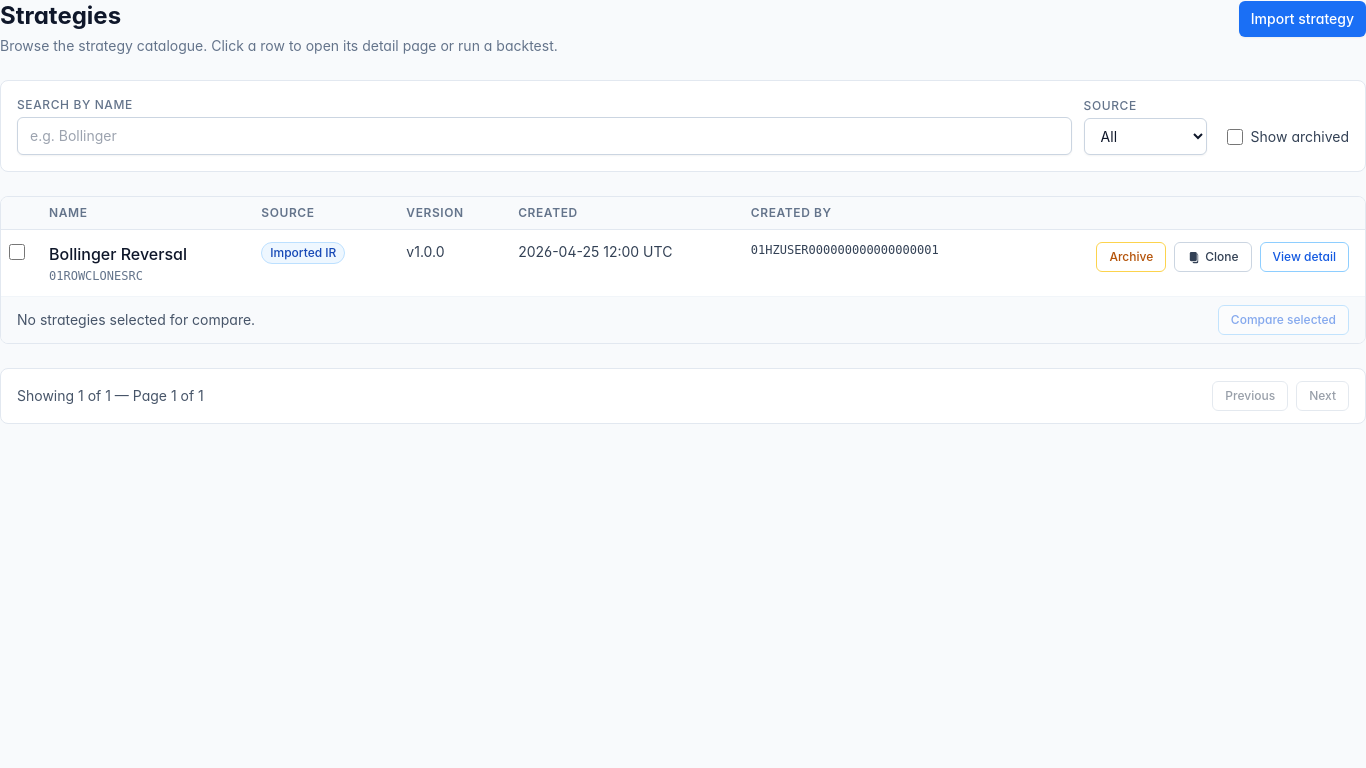
Test case: Strategies browse page › renders a Clone button on each row that opens the clone modal pre-filled with '{name} (copy)'
The image size is (1366, 768).
Expected: the table with test id "strategies-table" is shown, x1=1 y1=197 x2=1365 y2=296
Click the button "Clone": (1213, 257) x1=1174 y1=242 x2=1252 y2=272
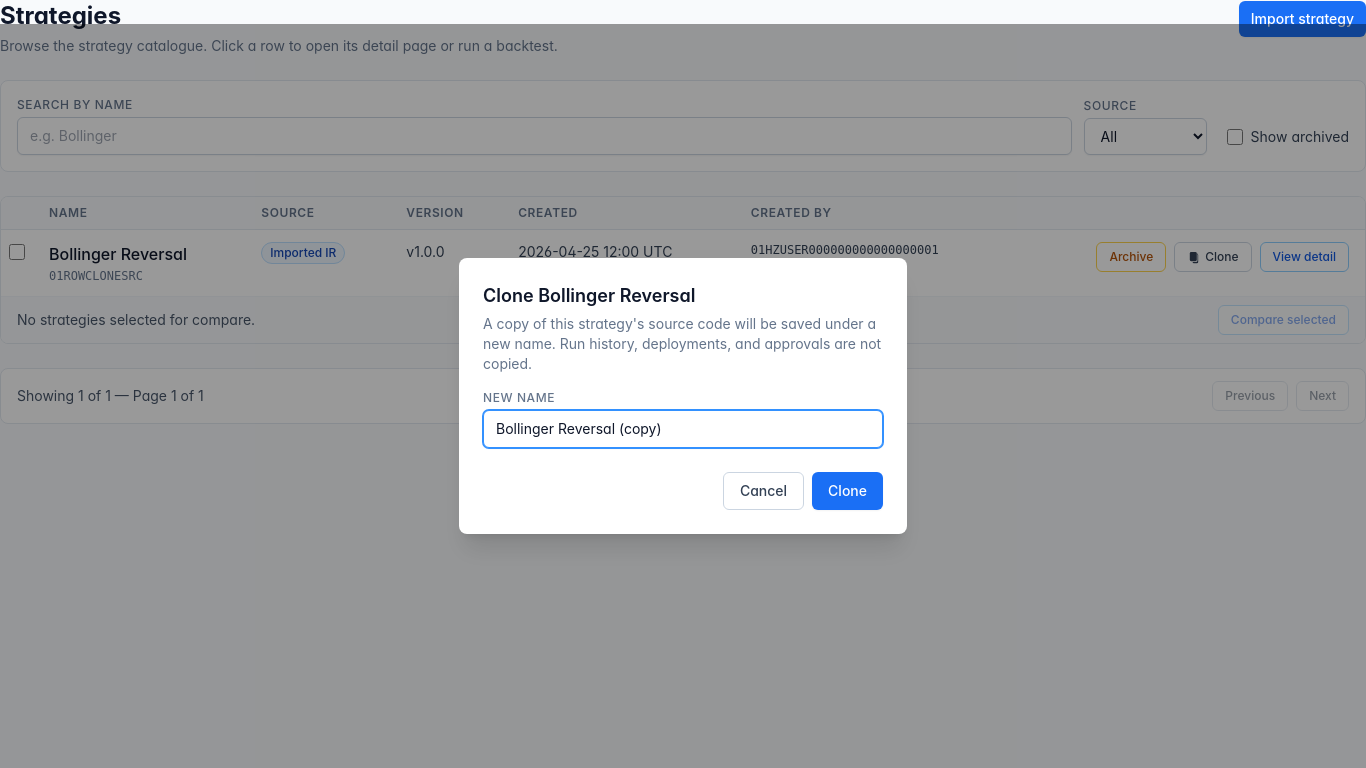
Result: the dialog with test id "strategies-clone-modal" is shown
Result: the dialog with test id "strategies-clone-modal" shows "Bollinger Reversal" at x1=538 y1=285 x2=695 y2=306
Result: the field with test id "strategies-clone-name-input" holds "Bollinger Reversal (copy)" at x1=483 y1=410 x2=883 y2=448
